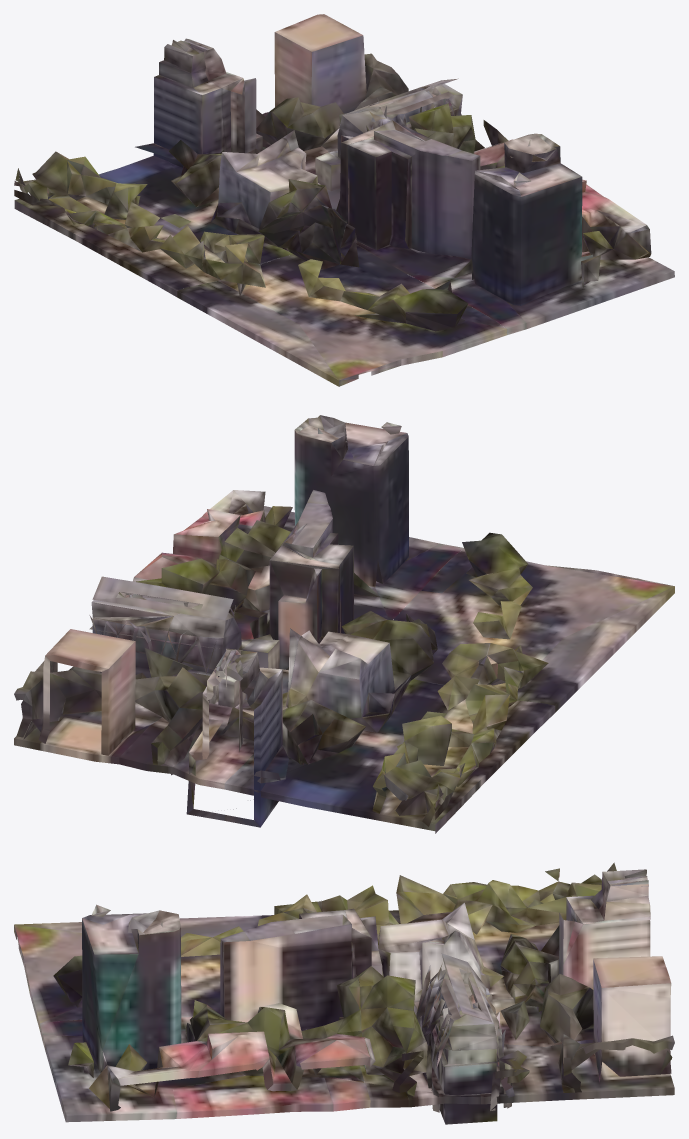
The picture shows the model from 3 angles, top to bottom: view 1: azimuth 30°, elevation 25°; view 2: azimuth 150°, elevation 25°; view 3: azimuth 270°, elevation 25°; orthographic projection. The views are drawn at different scales.
Visible parts, largest first — view 1: Mesh_0; view 2: Mesh_0; view 3: Mesh_0.
Part boxes in pixels (bbox=[...]): Mesh_0: bbox=[14, 14, 674, 386]; Mesh_0: bbox=[14, 415, 674, 833]; Mesh_0: bbox=[14, 862, 674, 1124].
Size of the model in its own units: 133 by 51.54 by 165.
1 material, 1 textured.
